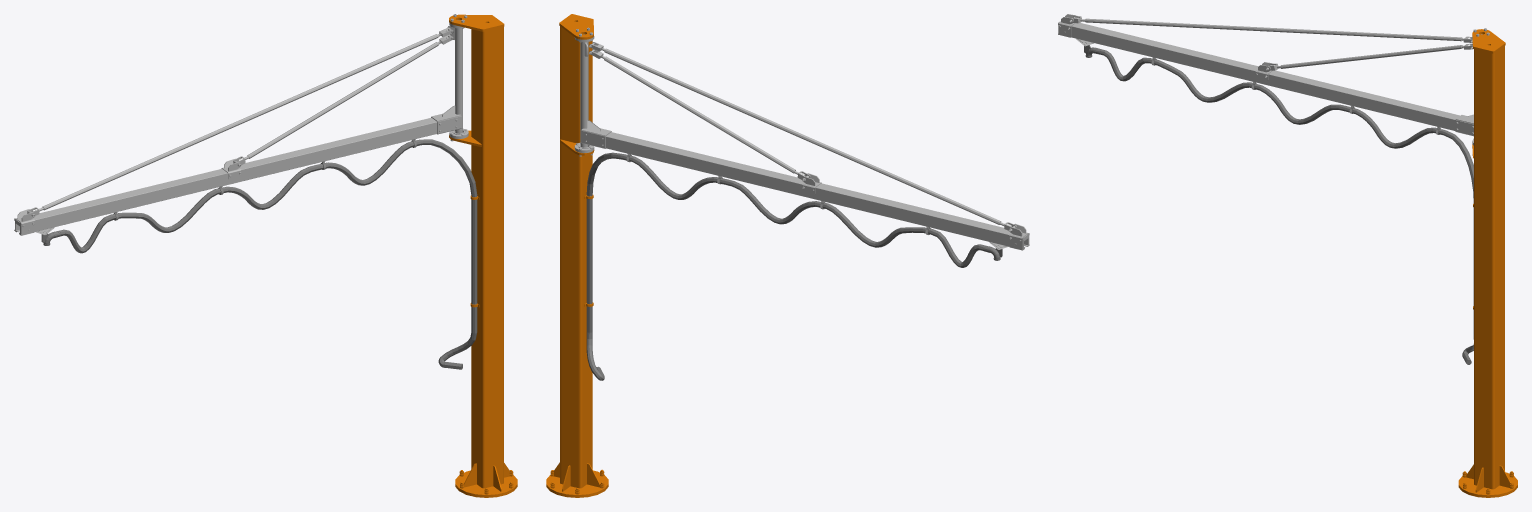
The model's file is aardwolf_all_part_Over Braced Jib Crane - 4m - 250kg@p1_-100_-166_0@p2_3966_-166_3067_X.fbx.
3 views of the same model, side by side, from view 1: azimuth 30°, elevation 25°; view 2: azimuth 150°, elevation 25°; view 3: azimuth 330°, elevation 25° (orthographic). The views are drawn at different scales.
Visible parts, largest first — view 1: aardwolf_all_part_obj330, aardwolf_all_part_obj329, Shape154, Shape153; view 2: aardwolf_all_part_obj330, aardwolf_all_part_obj329, Shape154, Shape153; view 3: aardwolf_all_part_obj330, aardwolf_all_part_obj329, Shape154, Shape153.
Part boxes in pixels (box(x1,y1,x2,y2)): aardwolf_all_part_obj330: box(449, 14, 517, 497); aardwolf_all_part_obj329: box(14, 14, 468, 235); Shape154: box(59, 141, 413, 253); Shape153: box(415, 139, 477, 369); aardwolf_all_part_obj330: box(546, 14, 608, 497); aardwolf_all_part_obj329: box(574, 27, 1029, 250); Shape154: box(629, 155, 984, 267); Shape153: box(586, 152, 627, 380); aardwolf_all_part_obj330: box(1458, 29, 1517, 497); aardwolf_all_part_obj329: box(1058, 14, 1489, 145); Shape154: box(1099, 49, 1437, 148); Shape153: box(1438, 129, 1473, 364).
Size of the model in its own units: 4447 by 4061 by 493.
